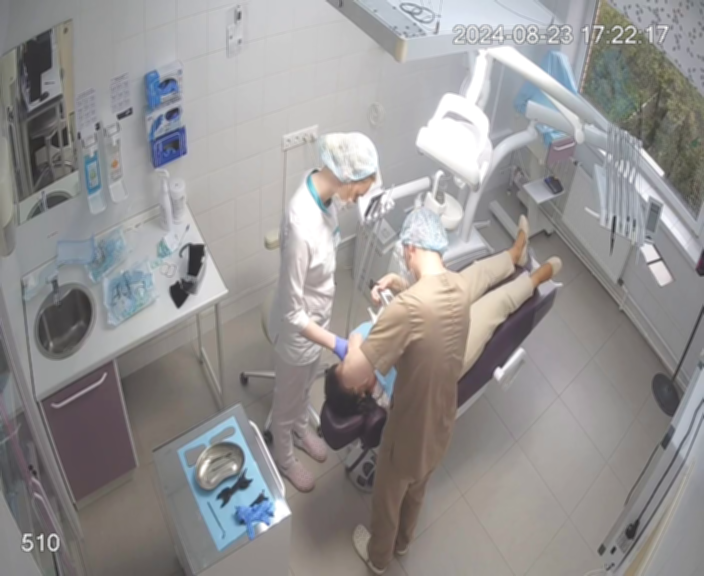Patient: (316, 211, 565, 451)
